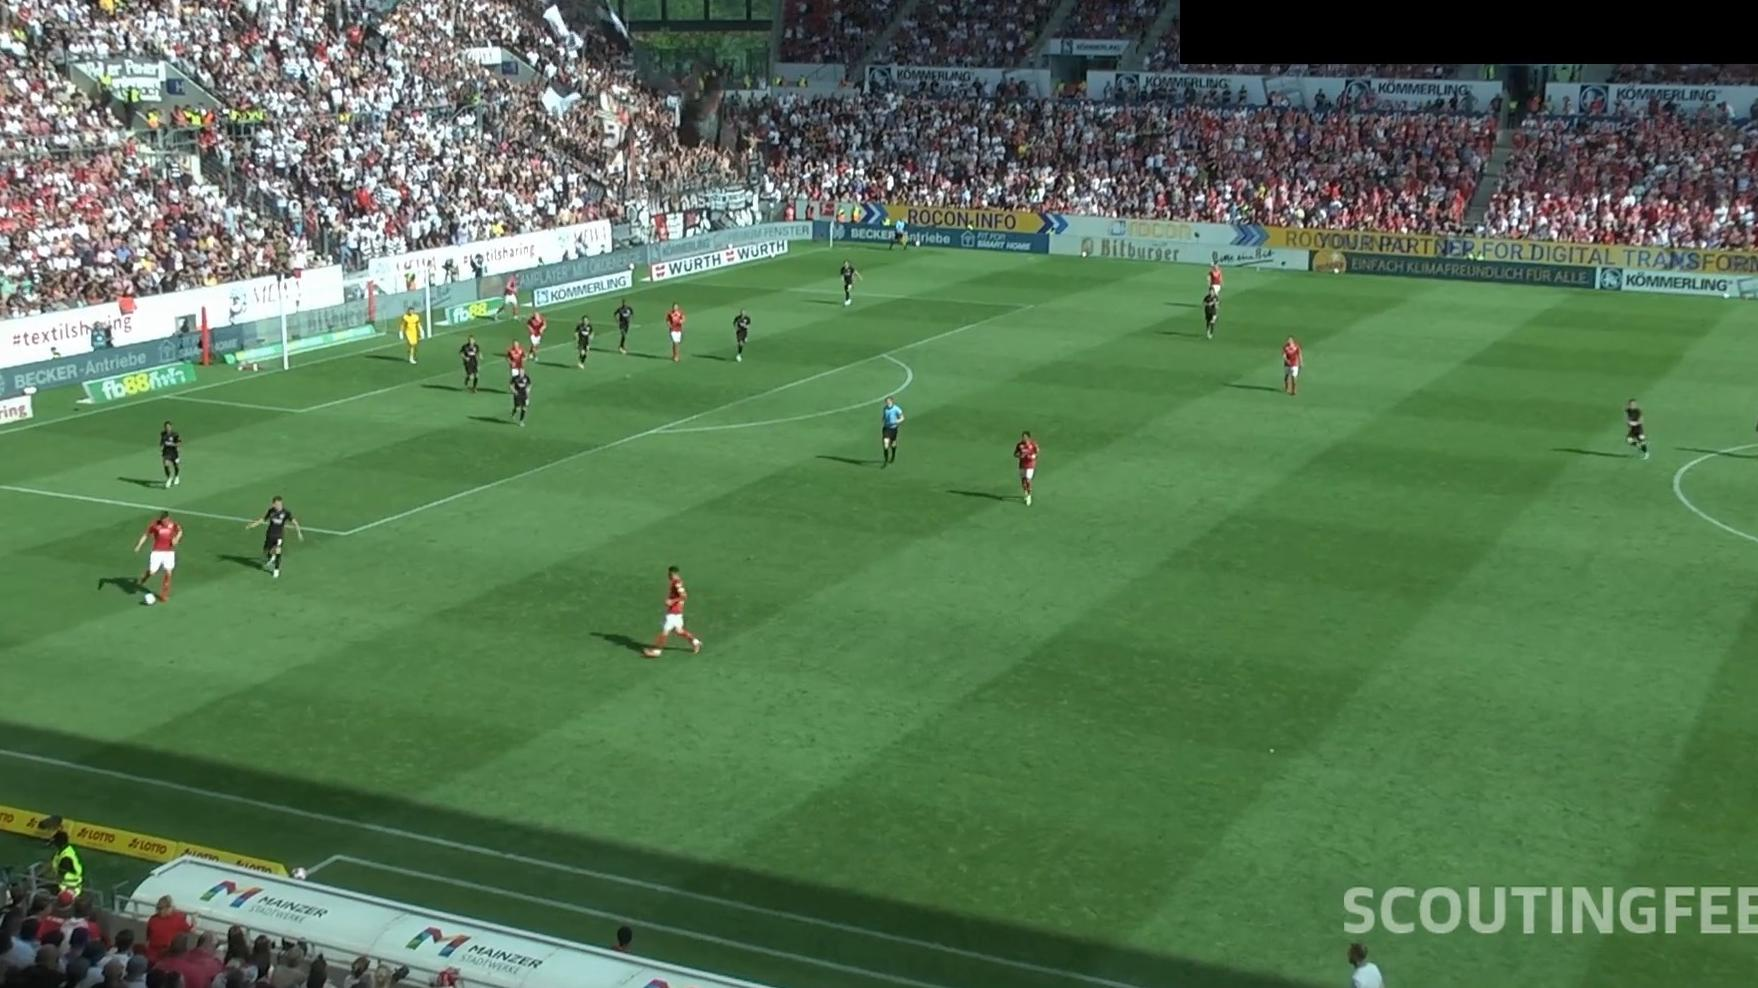ball: (144, 593, 157, 605)
